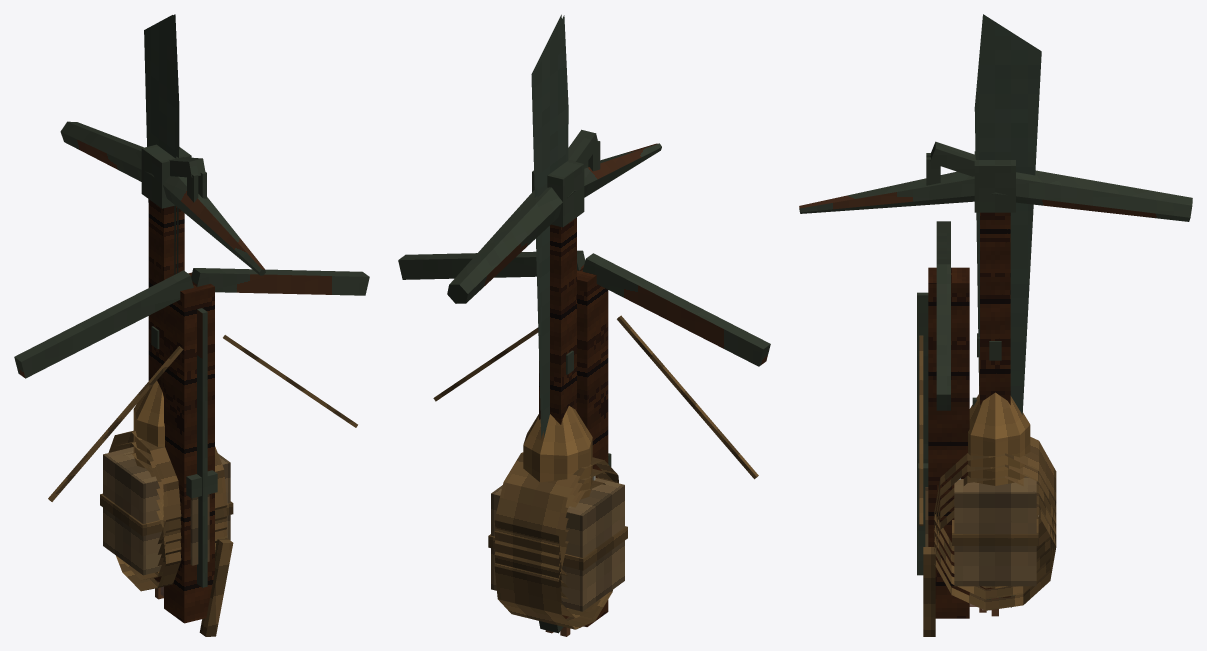
The model's file is itens.glb.
3 views of the same model, side by side, from view 1: azimuth 30°, elevation 25°; view 2: azimuth 150°, elevation 25°; view 3: azimuth 270°, elevation 25° (orthographic). The views are drawn at different scales.
Visible parts, largest first — view 1: besta, picareta, corda, embrulho, facao, garrafada, pe_de_cabra; view 2: besta, picareta, corda, facao, embrulho, garrafada, pe_de_cabra; view 3: picareta, besta, facao, embrulho, corda, garrafada, pe_de_cabra.
Part boxes in pixels (<box>): besta: <box>14,268,369,623</box>; picareta: <box>60,121,265,581</box>; corda: <box>108,430,233,636</box>; embrulho: <box>100,447,233,575</box>; facao: <box>144,14,179,274</box>; garrafada: <box>133,381,164,572</box>; pe_de_cabra: <box>169,157,206,202</box>; besta: <box>398,250,770,626</box>; picareta: <box>447,143,661,618</box>; corda: <box>494,452,618,629</box>; facao: <box>531,14,568,438</box>; embrulho: <box>488,478,627,611</box>; garrafada: <box>523,406,595,609</box>; pe_de_cabra: <box>539,129,600,633</box>; picareta: <box>799,151,1192,597</box>; besta: <box>917,221,969,618</box>; facao: <box>974,14,1041,414</box>; embrulho: <box>952,476,1038,586</box>; corda: <box>923,437,1056,636</box>; garrafada: <box>959,392,1030,588</box>; pe_de_cabra: <box>926,141,1015,607</box>.
Bounding box in the file's own units: 0.3987 × 0.6602 × 0.3824.
11 materials, 11 textured.
